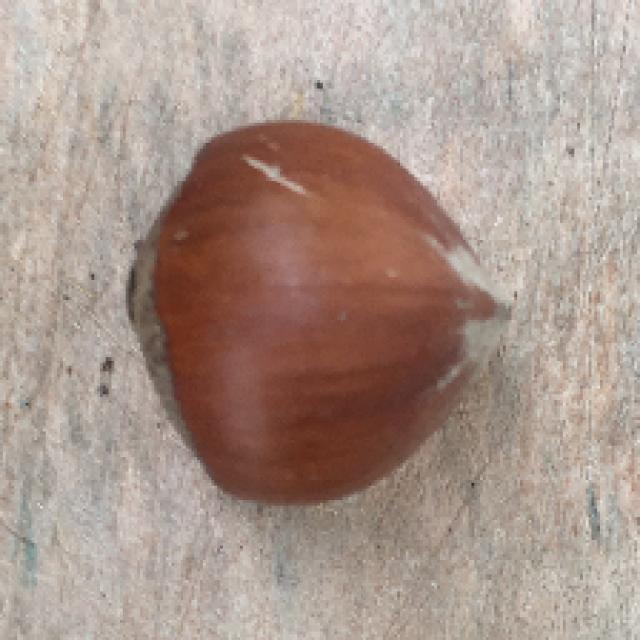damagedHazelnut: (119, 114, 513, 492)
